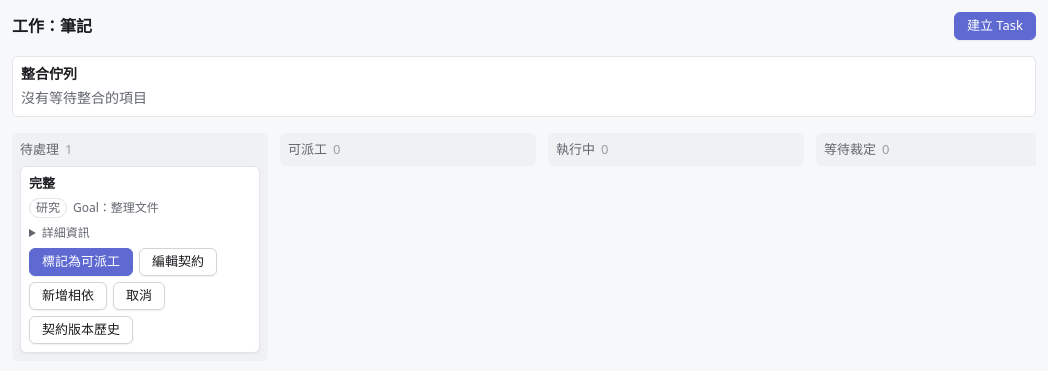
工作面板 › 標記為可派工成功後卡片移到「可派工」欄
Expected: the heading "工作：筆記" is shown, [12,16,92,36]
Click the button "標記為可派工": (81, 262) [29,248,133,276]
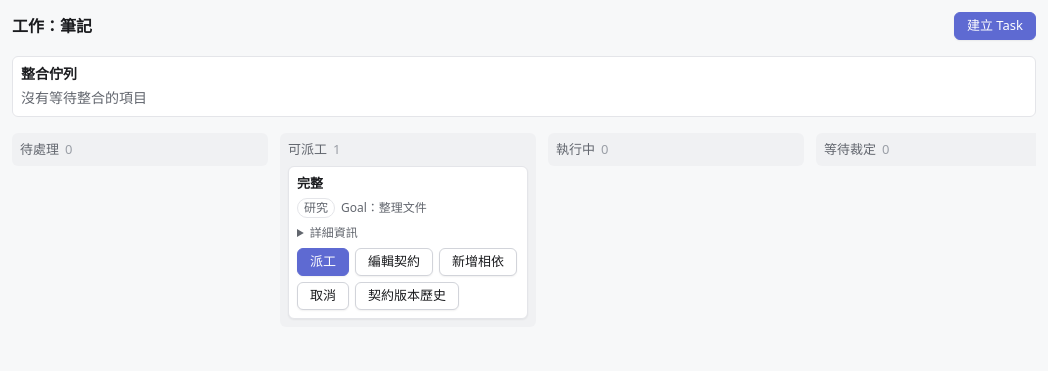
Expected: the element "完整" is shown, [288,166,528,319]
Result: the element named "待處理（0）" is shown at [12,133,268,166]
